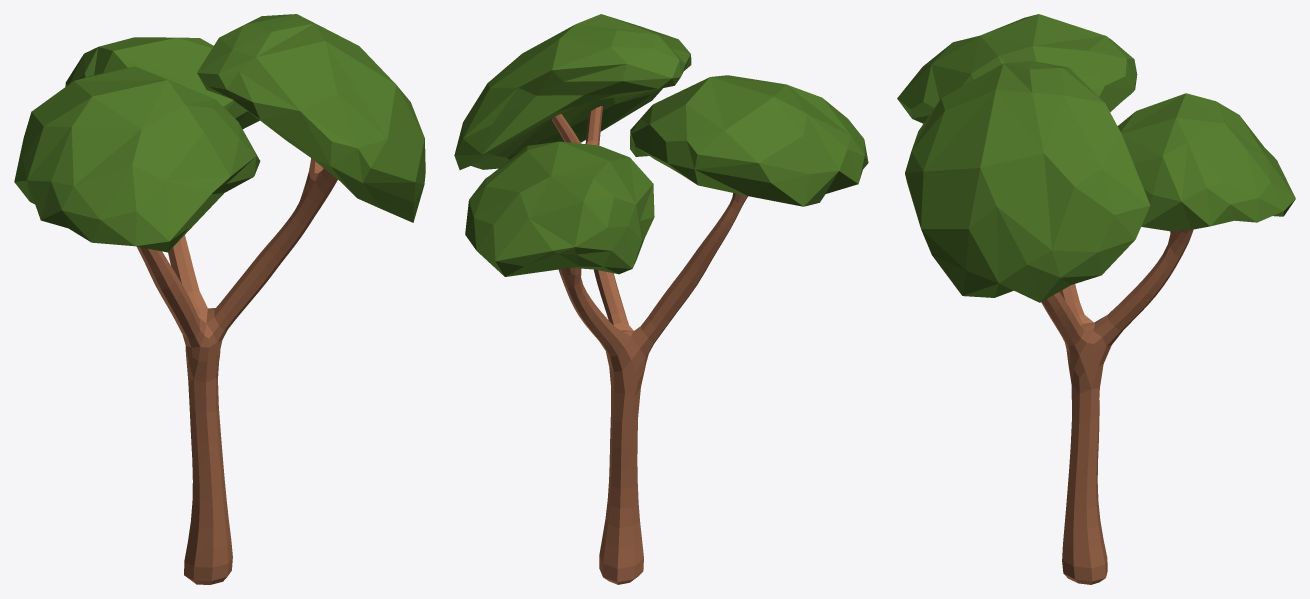
The model's file is -tree5.glb.
The picture shows the model from 3 angles, left to right: view 1: azimuth 30°, elevation 25°; view 2: azimuth 150°, elevation 25°; view 3: azimuth 270°, elevation 25°; orthographic projection. The views are drawn at different scales.
Visible parts, largest first — view 1: tree5; view 2: tree5; view 3: tree5.
Part boxes in pixels (x1,y1,x2,y2): tree5: (14, 14, 425, 584); tree5: (454, 14, 868, 584); tree5: (897, 14, 1295, 584).
Bounding box in the file's own units: 1.47 × 2.02 × 1.39.
Materials: 2 (2 with a texture image).
